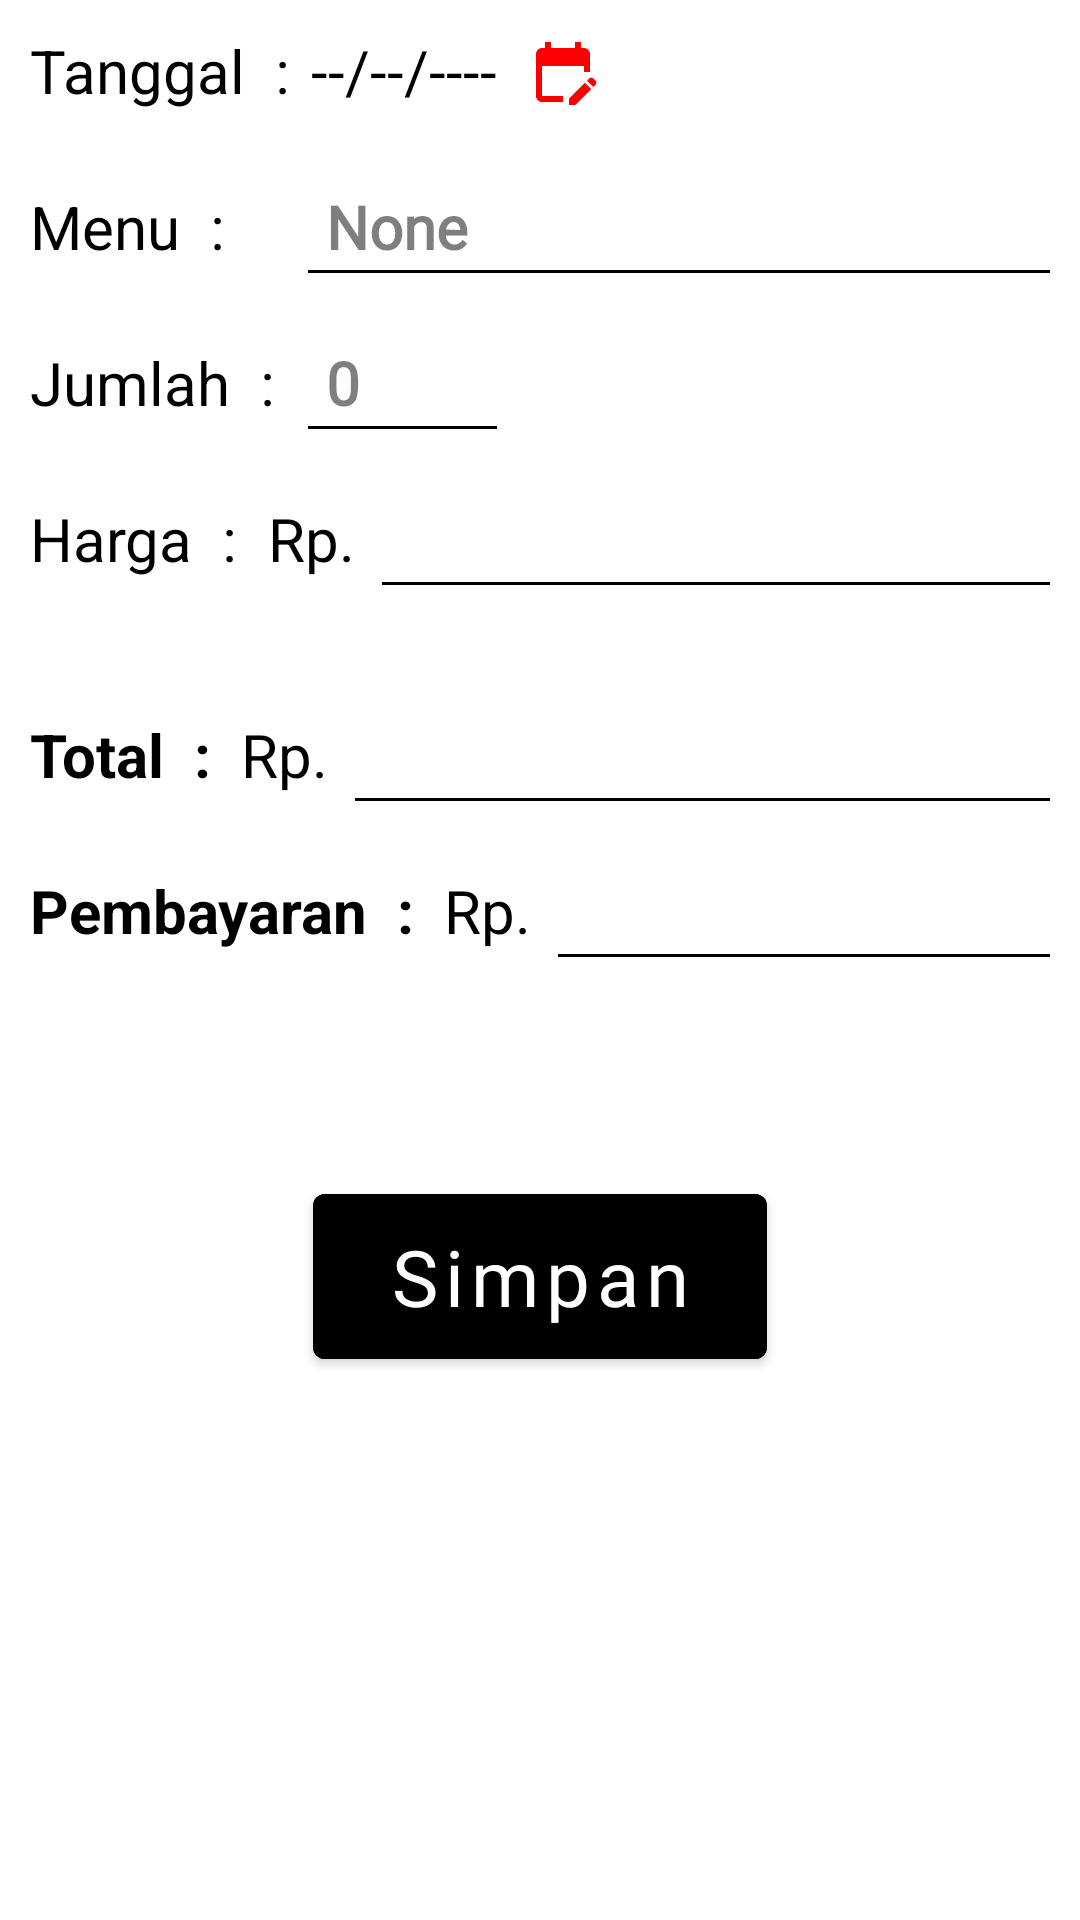

Where icons sit on this 1080w x 1920h app screen, as bbox=[x1, y1, x2, y2]:
edit calendar: bbox=[536, 42, 597, 105]
